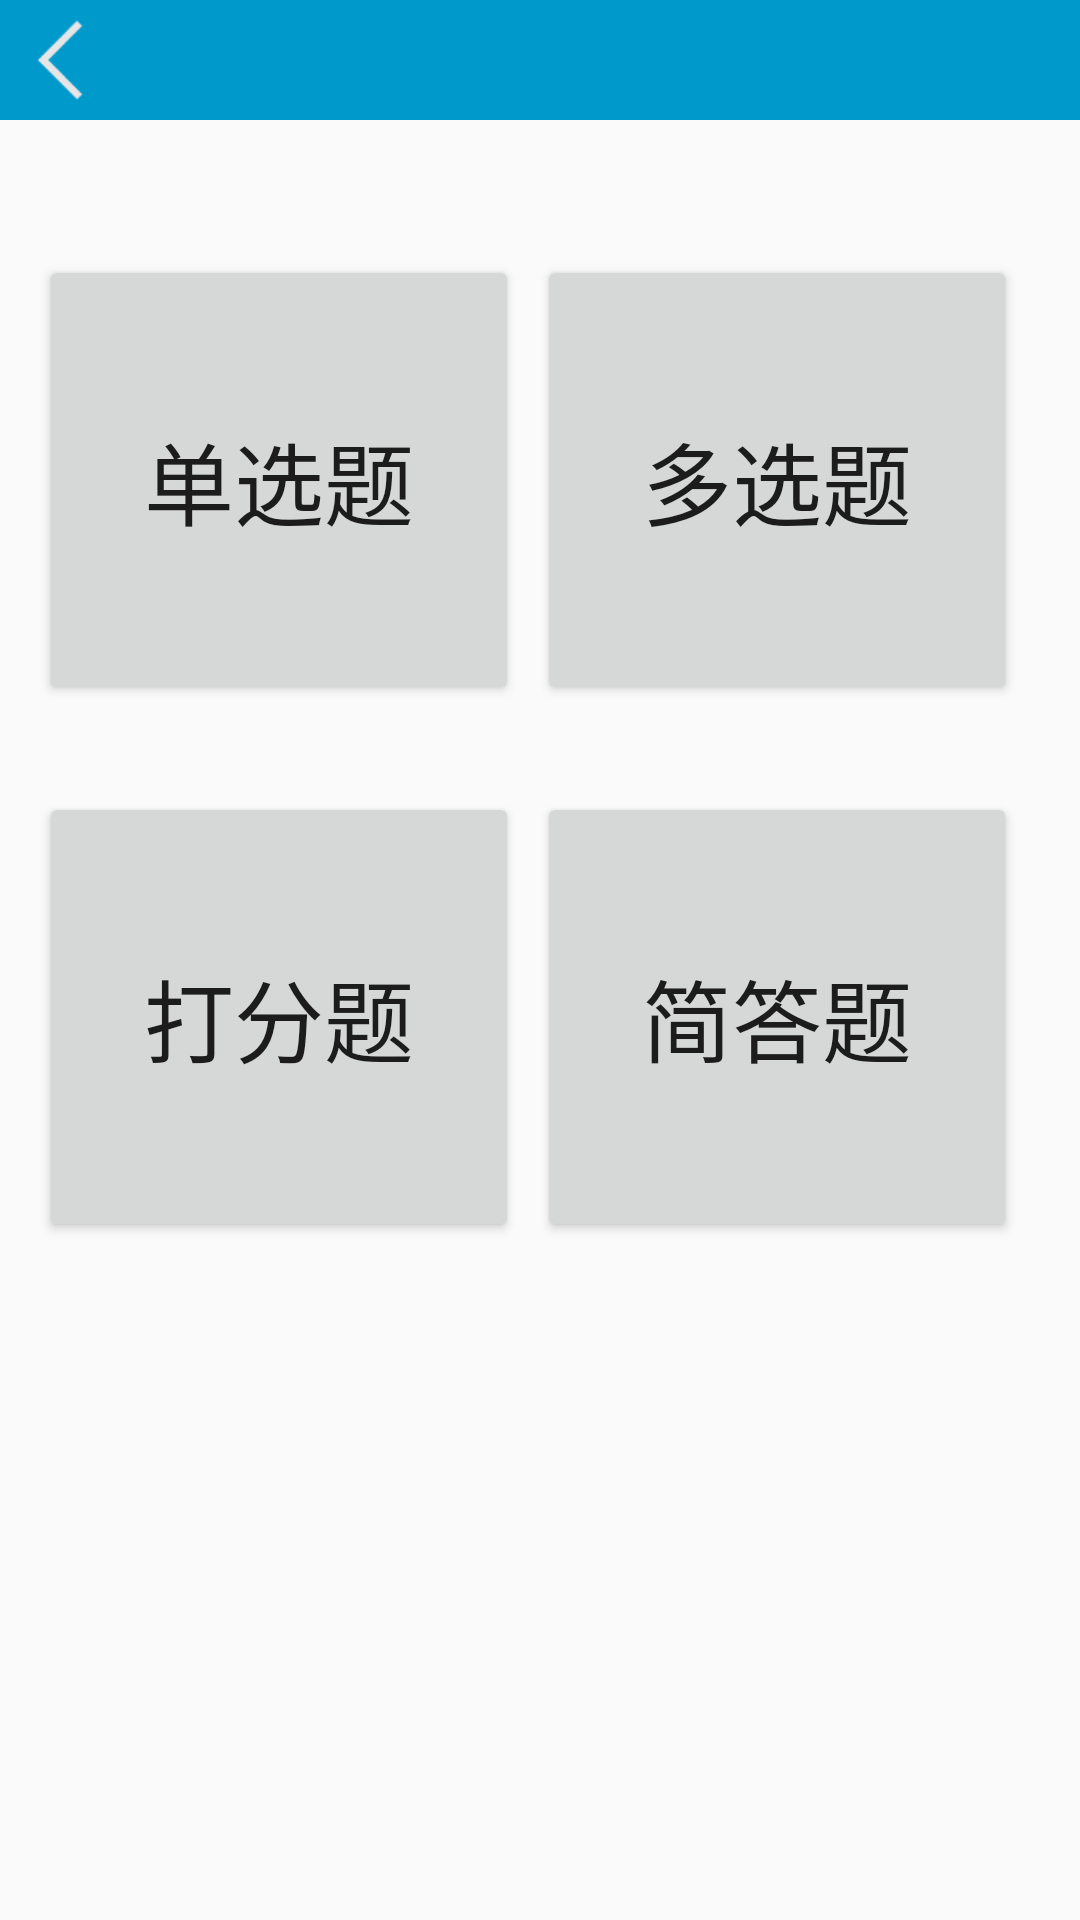

Screen size 1080w x 1920h. Icon name, then its box in pixels as (x1, y1, x2, y2):
back: (37, 20, 83, 100)
